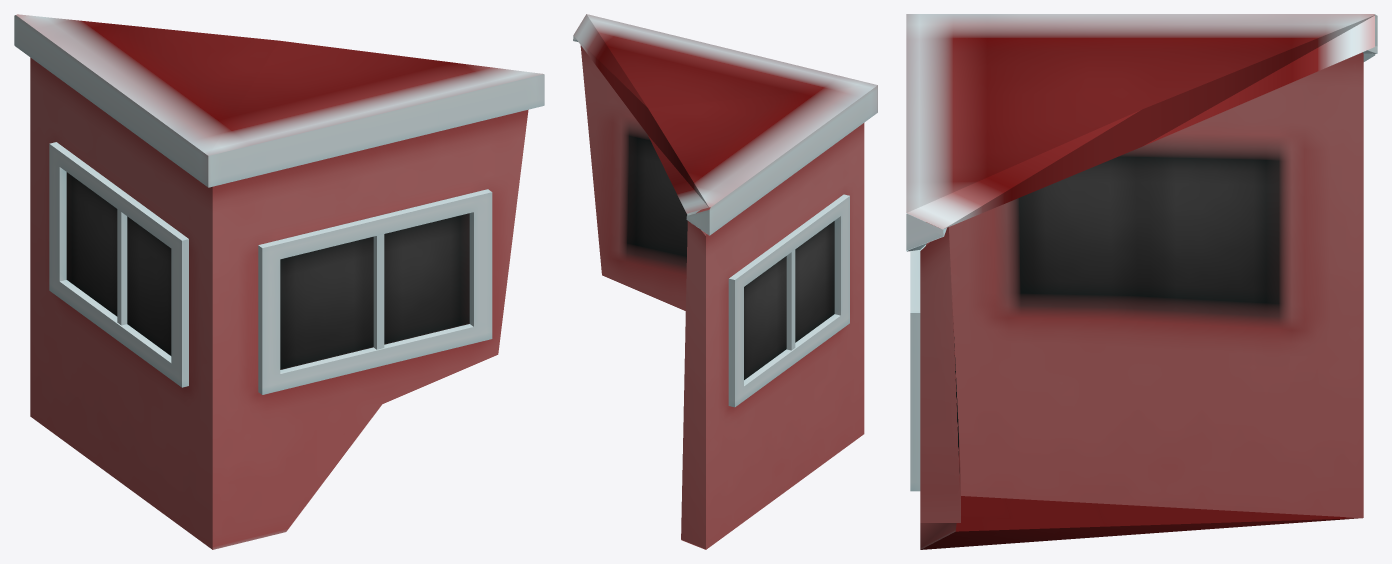
Rendered from B10Broke01.FBX.
The picture shows the model from 3 angles, left to right: view 1: azimuth 30°, elevation 25°; view 2: azimuth 150°, elevation 25°; view 3: azimuth 270°, elevation 25°; orthographic projection. The views are drawn at different scales.
Parts seen in each view (by area): view 1: B10Broke01; view 2: B10Broke01; view 3: B10Broke01.
Boxes of the visible parts, <box> form: B10Broke01: <box>14,14,544,549</box>; B10Broke01: <box>573,14,877,549</box>; B10Broke01: <box>906,14,1377,549</box>.
Bounding box in the file's own units: 35.63 × 40.91 × 35.63.
